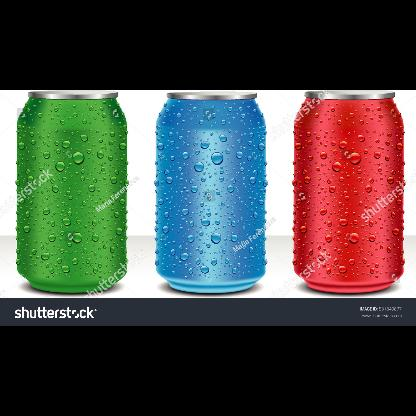Tin_Can: (151, 90, 273, 296), (292, 90, 408, 294), (14, 94, 130, 296)
